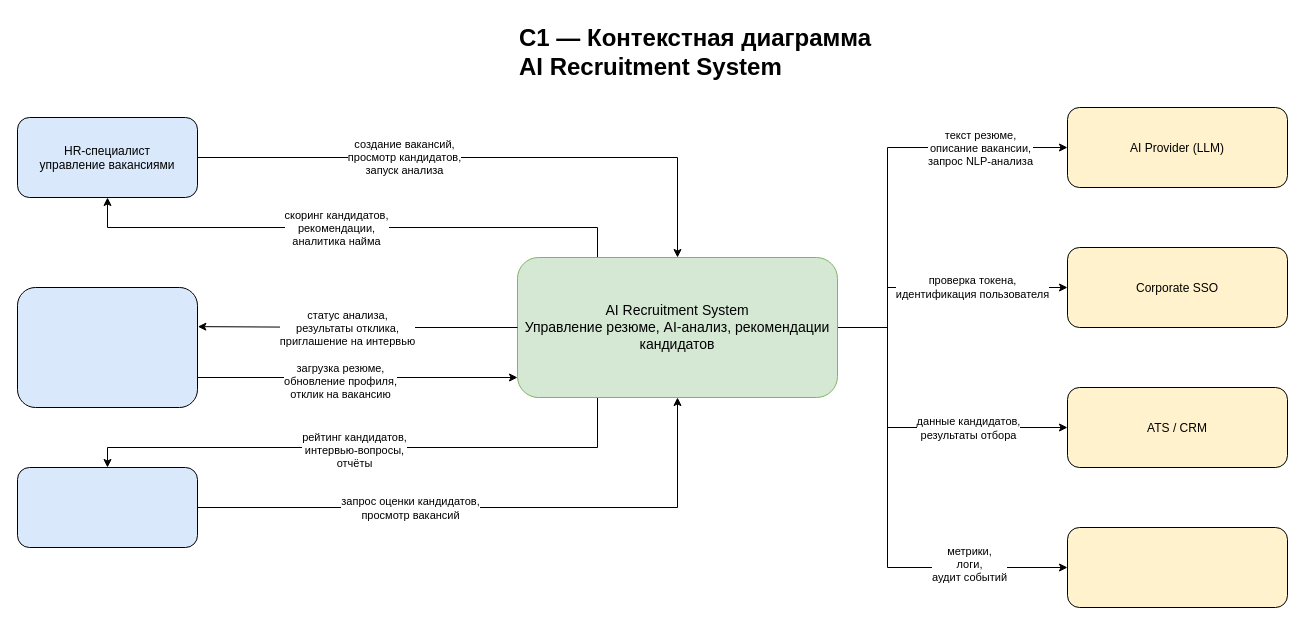
This 1305x625 diagram has some shape labels left out. The shapes that lost their labels are listed below. From the top down, each one's centre as x and y in pixels, then its label:
the point at 107,347: Кандидат загрузка резюме
the point at 107,507: Руководитель анализ кандидатов
the point at 1177,567: Monitoring System
